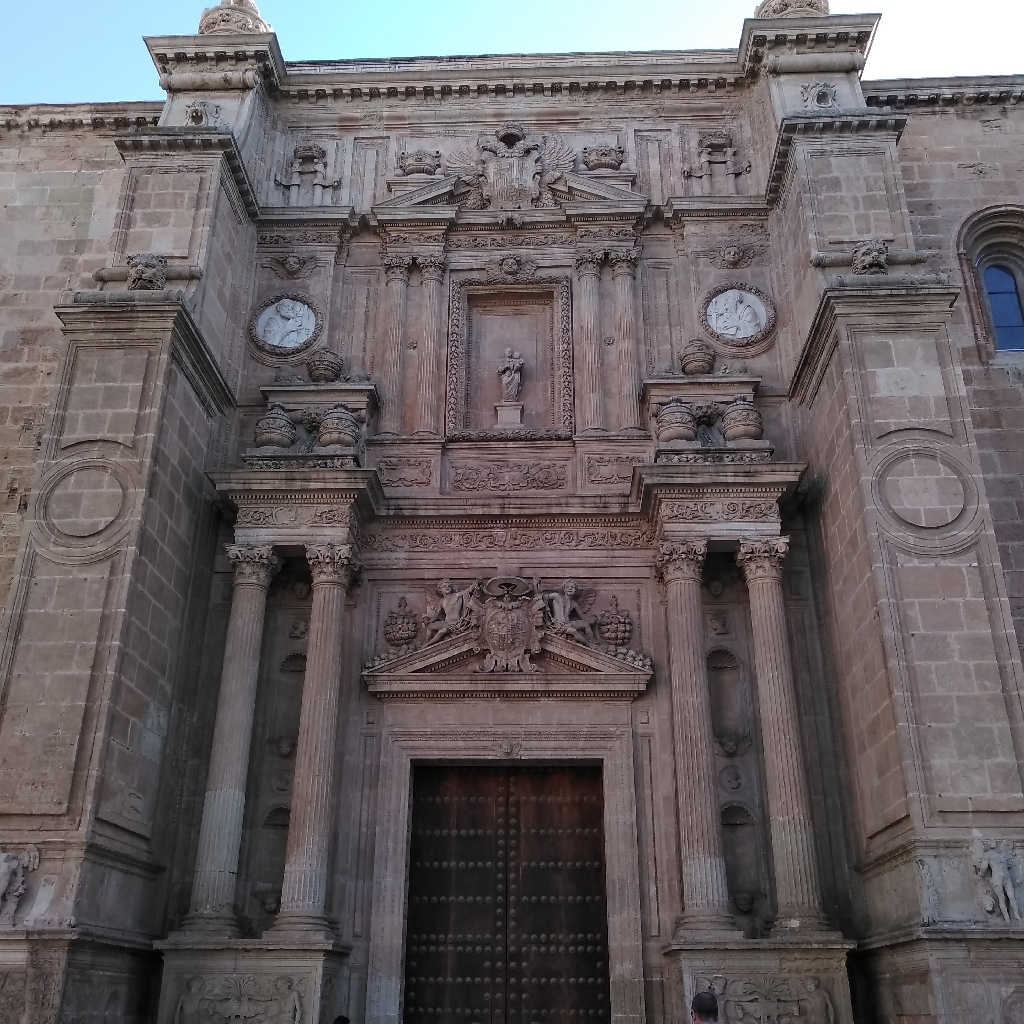fronton: (360, 626, 655, 697)
fronton-partido: (365, 167, 650, 220)
vano-adintelado: (364, 720, 645, 1024)
